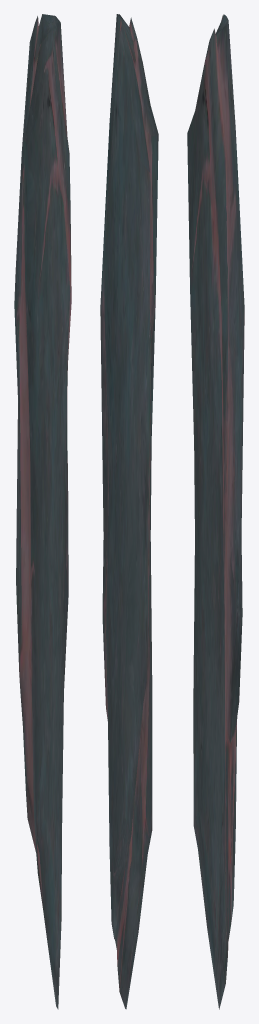
3 renders of one model, left to right at view 1: azimuth 30°, elevation 25°; view 2: azimuth 150°, elevation 25°; view 3: azimuth 330°, elevation 25°, orthographic.
Parts seen in each view (by area): view 1: SM_VaultGuardian_EarthJavelin_02_LOD0; view 2: SM_VaultGuardian_EarthJavelin_02_LOD0; view 3: SM_VaultGuardian_EarthJavelin_02_LOD0.
Boxes of the visible parts, left/top/right/bottom form: SM_VaultGuardian_EarthJavelin_02_LOD0: left=14, top=14, right=71, bottom=1009; SM_VaultGuardian_EarthJavelin_02_LOD0: left=100, top=14, right=158, bottom=1009; SM_VaultGuardian_EarthJavelin_02_LOD0: left=187, top=14, right=244, bottom=1009.
Bounding box in the file's own units: 0.2633 × 5.12 × 0.2514.
1 material, 1 textured.
